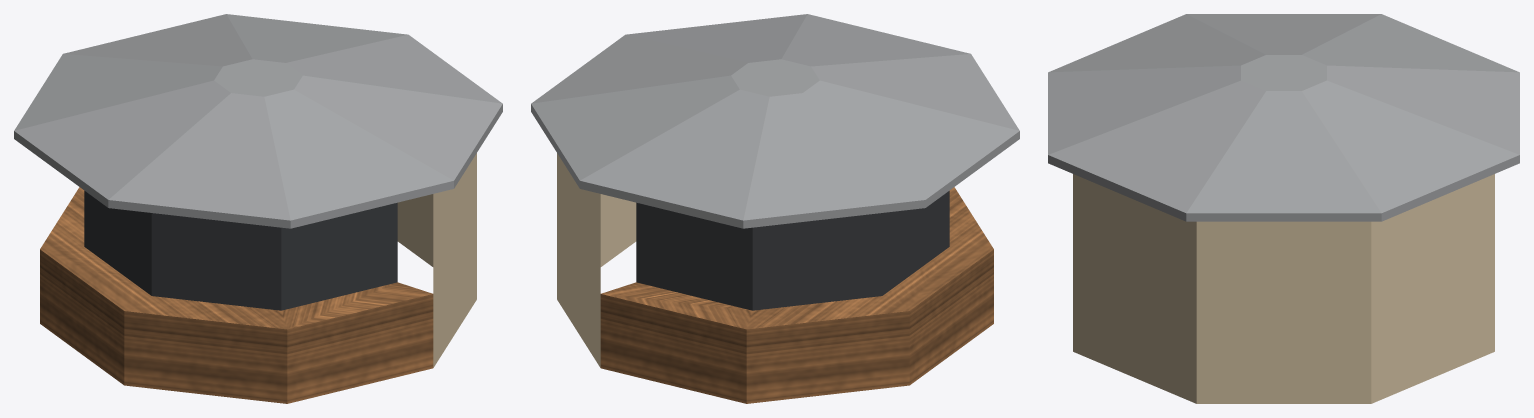
File: SM_Morin_ChioscoOttagonale_LOD2.fbx
3 views of the same model, side by side, from view 1: azimuth 30°, elevation 25°; view 2: azimuth 150°, elevation 25°; view 3: azimuth 270°, elevation 25° (orthographic). The views are drawn at different scales.
Visible parts, largest first — view 1: SM_Morin_ChioscoOttagonale_LOD2; view 2: SM_Morin_ChioscoOttagonale_LOD2; view 3: SM_Morin_ChioscoOttagonale_LOD2.
Part boxes in pixels (left/top/right/bottom): SM_Morin_ChioscoOttagonale_LOD2: left=14, top=14, right=502, bottom=403; SM_Morin_ChioscoOttagonale_LOD2: left=531, top=14, right=1019, bottom=403; SM_Morin_ChioscoOttagonale_LOD2: left=1048, top=14, right=1519, bottom=403.
Size of the model in its own units: 610 by 610 by 345.
Materials: 2 (2 with a texture image).
